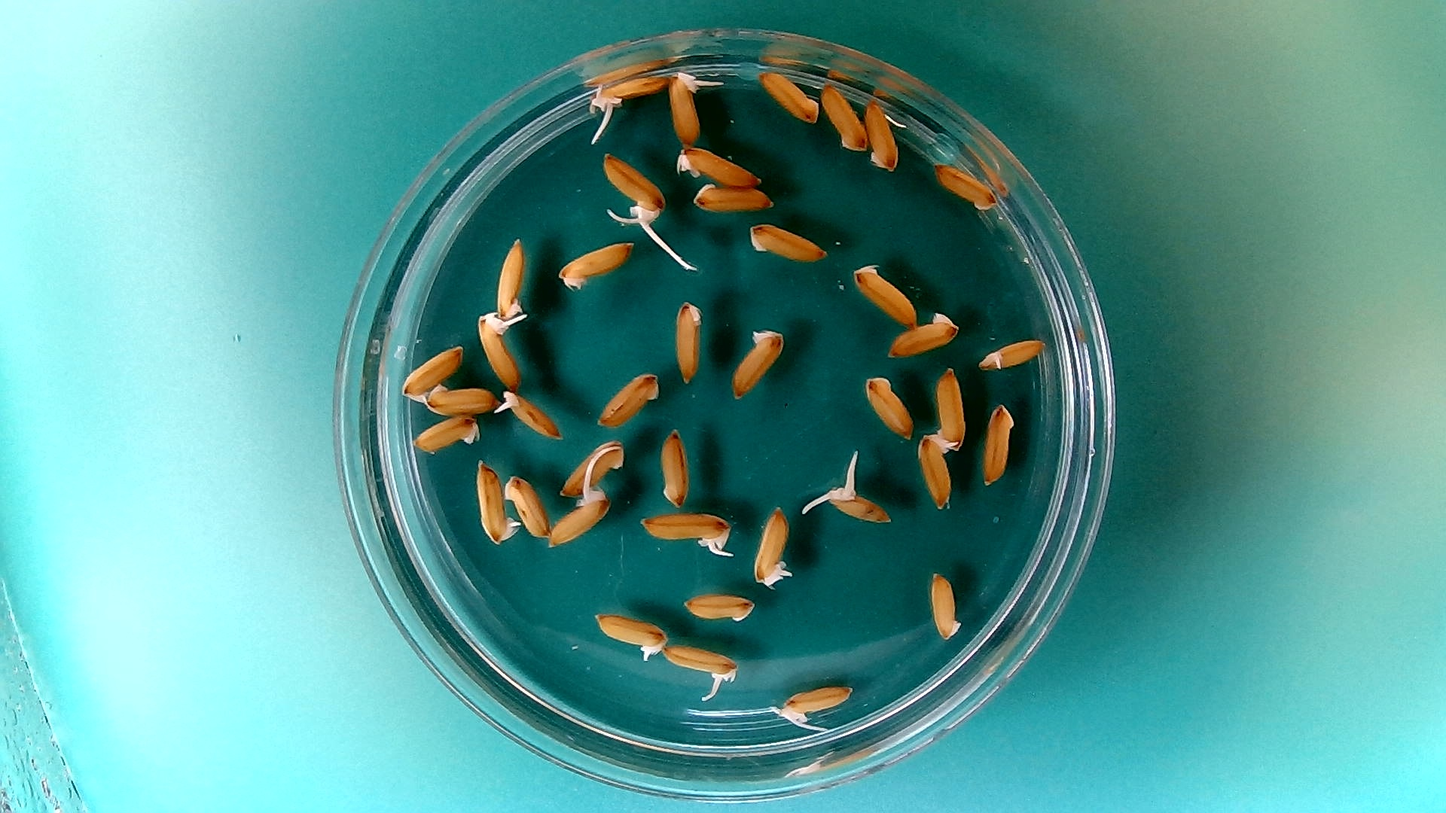no: (849, 259, 920, 327), (728, 323, 787, 400), (554, 236, 636, 291), (671, 142, 764, 190), (398, 340, 465, 404), (594, 367, 661, 430), (753, 64, 822, 125), (558, 437, 626, 496), (883, 308, 961, 359), (742, 218, 830, 263), (930, 157, 999, 212), (861, 370, 915, 440), (820, 79, 868, 154), (776, 680, 857, 724), (928, 364, 967, 453), (502, 470, 549, 540), (656, 423, 693, 510), (979, 399, 1015, 488), (862, 95, 901, 174), (688, 180, 776, 214), (493, 235, 528, 320), (926, 567, 965, 643), (410, 411, 480, 453), (679, 586, 758, 623), (423, 381, 500, 417)
yes: (598, 149, 667, 226), (636, 508, 735, 556), (545, 482, 613, 550), (589, 607, 670, 662), (473, 456, 520, 549), (660, 639, 740, 692), (474, 308, 524, 392), (819, 472, 893, 526), (750, 501, 795, 589), (585, 69, 671, 115), (497, 386, 565, 440), (914, 430, 958, 512), (667, 66, 706, 146), (976, 332, 1048, 373)
